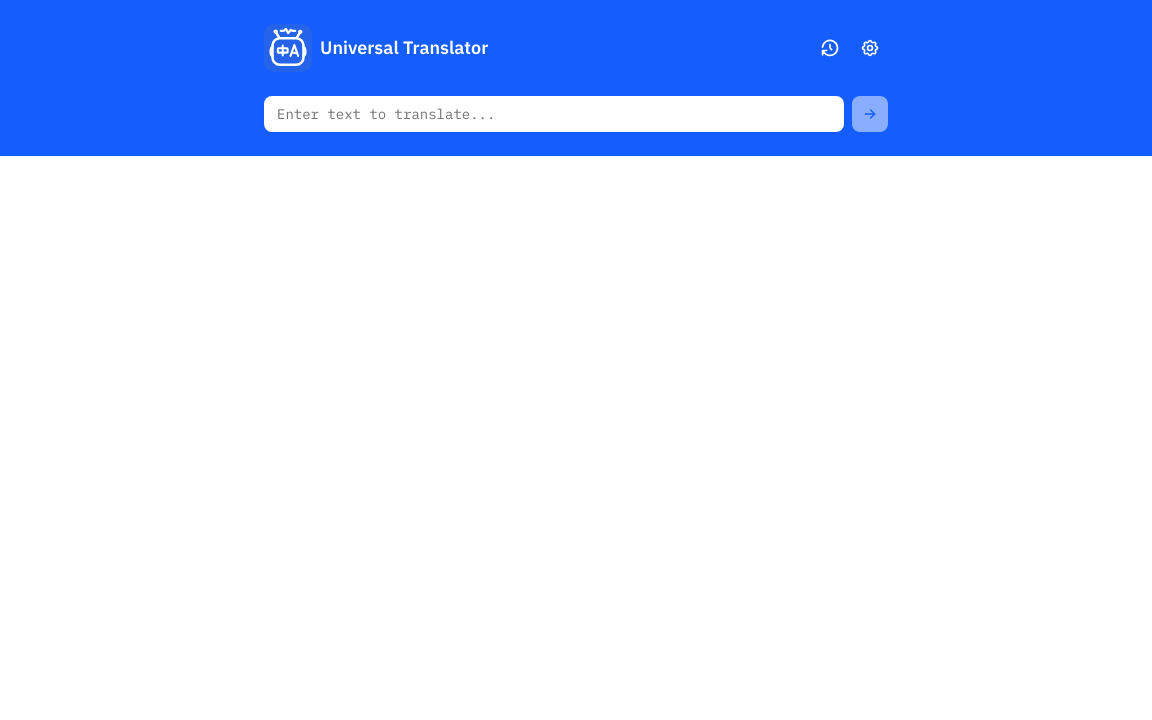
Test: App history saving › saves translation to history when translation completes
In the field with placeholder "Enter text to translate...": (554, 114) [264, 96, 844, 132], type "hello"
Then press Enter
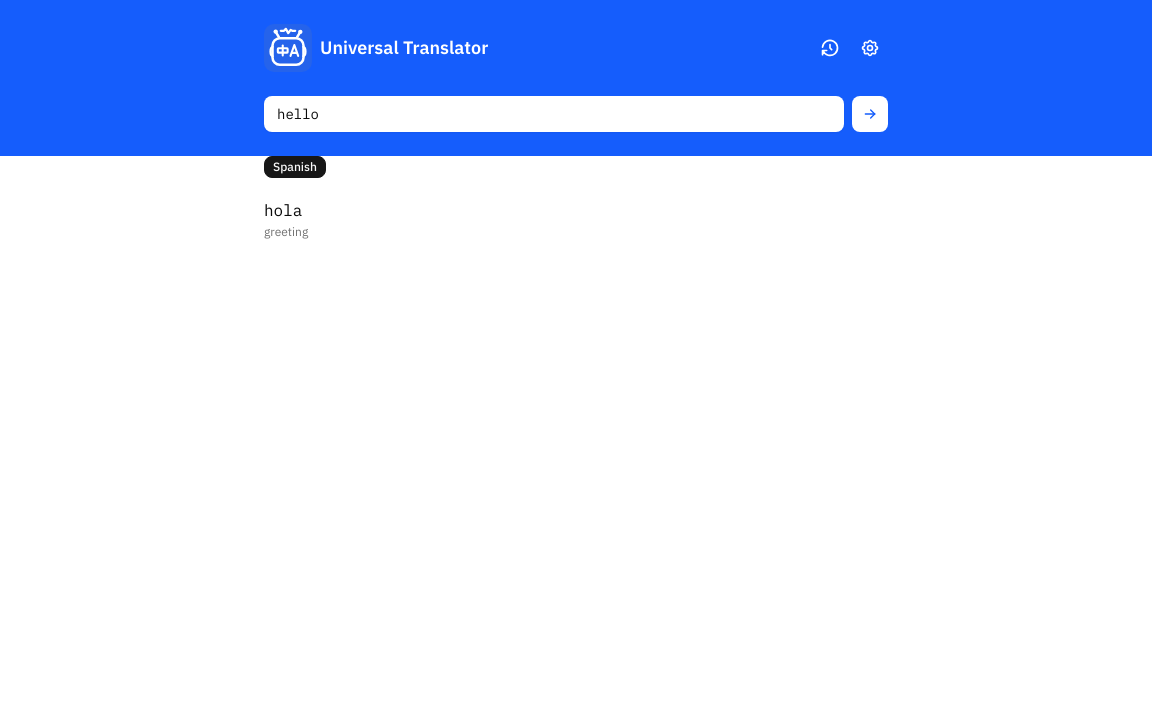
Now the text "hola" is shown, box [264, 200, 302, 220]
